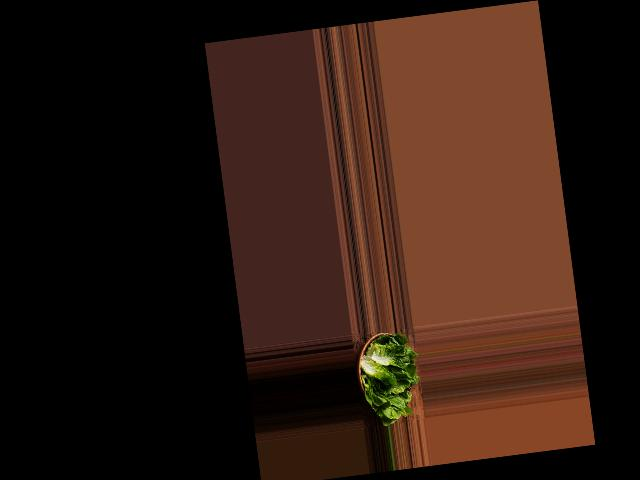lettuce: (352, 325, 422, 427)
